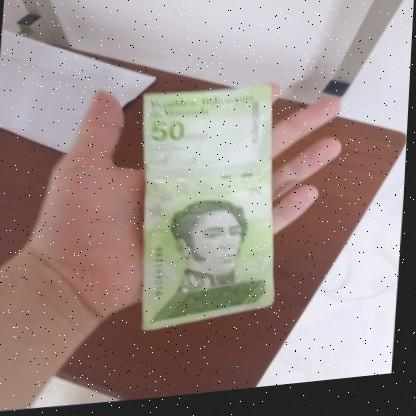vef_front: (129, 85, 290, 337)
